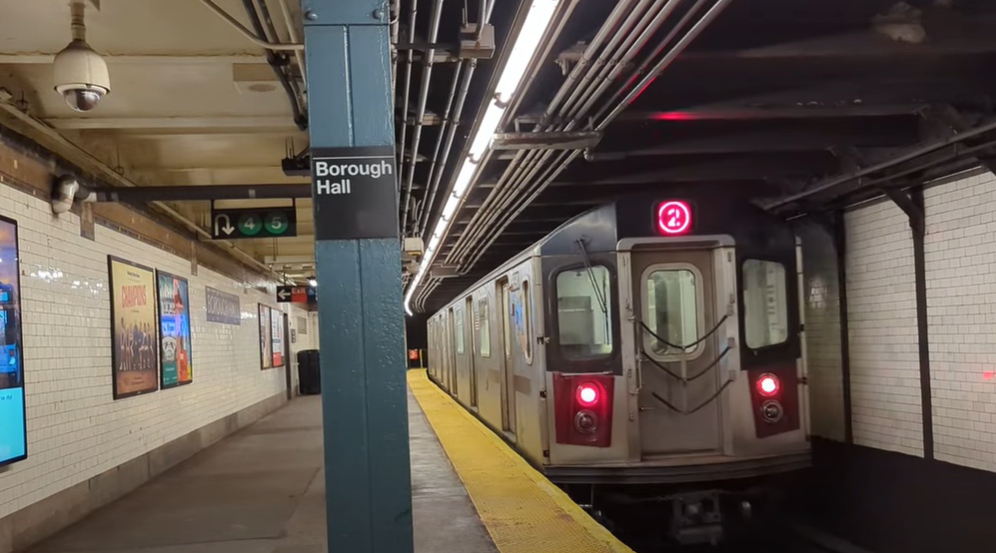train: (540, 199, 812, 472)
